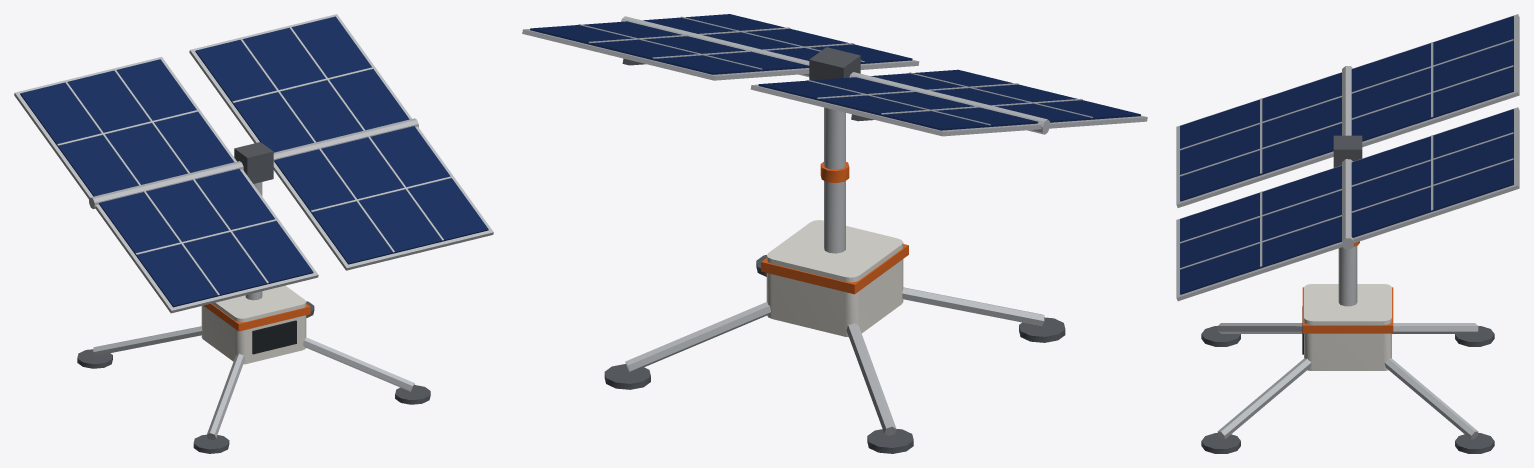
Rendered from solar_array.glb.
3 renders of one model, left to right at view 1: azimuth 30°, elevation 25°; view 2: azimuth 150°, elevation 25°; view 3: azimuth 270°, elevation 25°, orthographic. The views are drawn at different scales.
Visible parts, largest first — view 1: panel, body; view 2: panel, body; view 3: panel, body.
Part boxes in pixels (x1,y1,x2,y2): panel: (14, 14, 493, 313); body: (77, 142, 430, 453); panel: (522, 14, 1147, 136); body: (604, 47, 1065, 453); panel: (1176, 14, 1519, 301); body: (1201, 135, 1494, 453).
Size of the model in its own units: 3.7 by 2.94 by 3.11.
